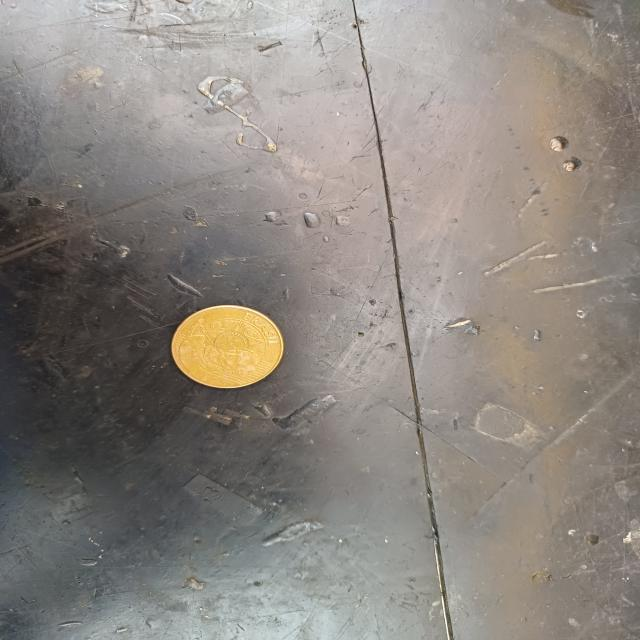25 cents: (172, 305, 288, 389)
